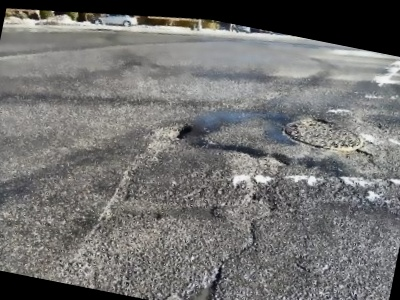pothole: (169, 259, 230, 300), (154, 117, 195, 146)
